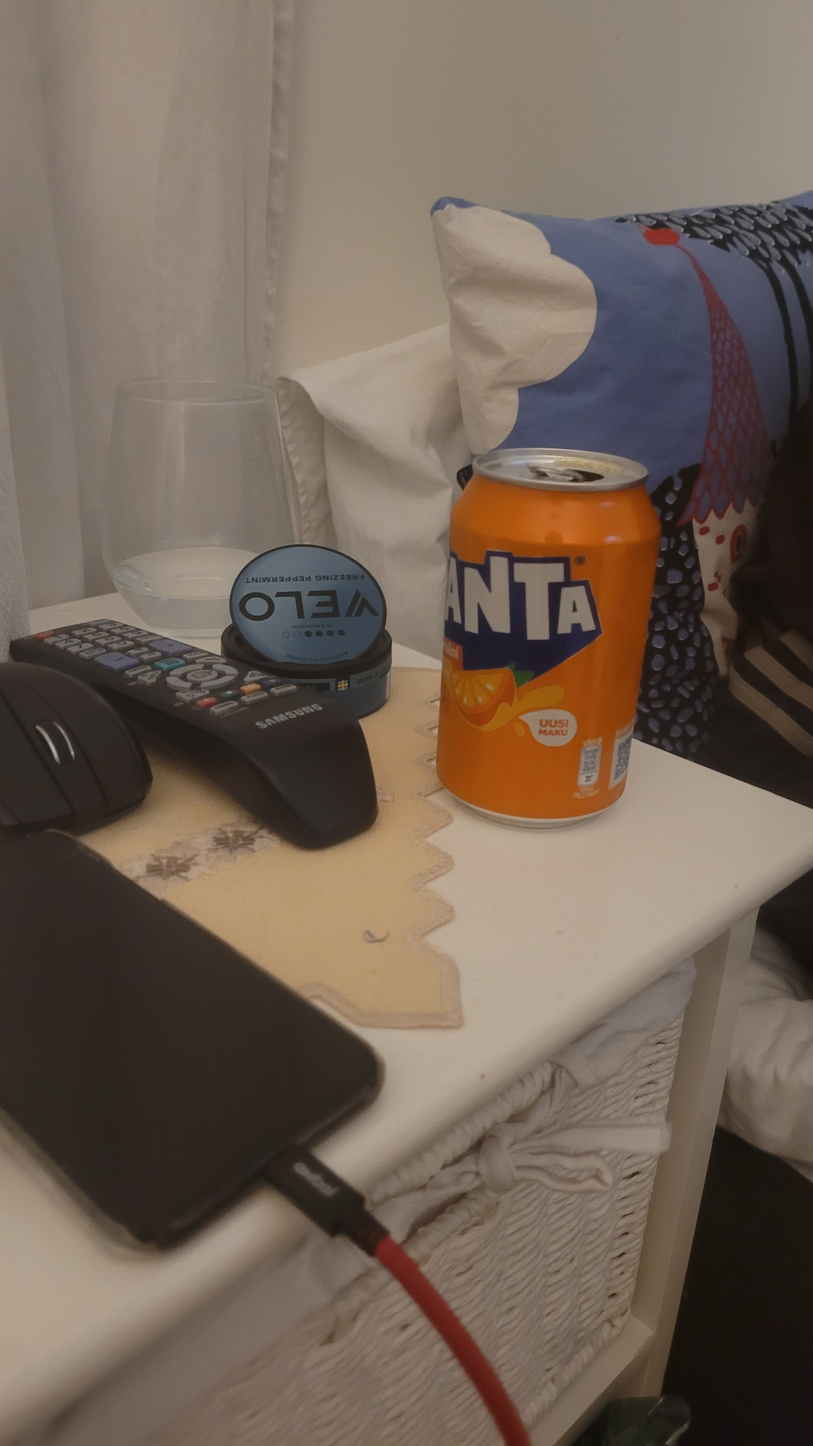Pantburk: (434, 448, 663, 830)
